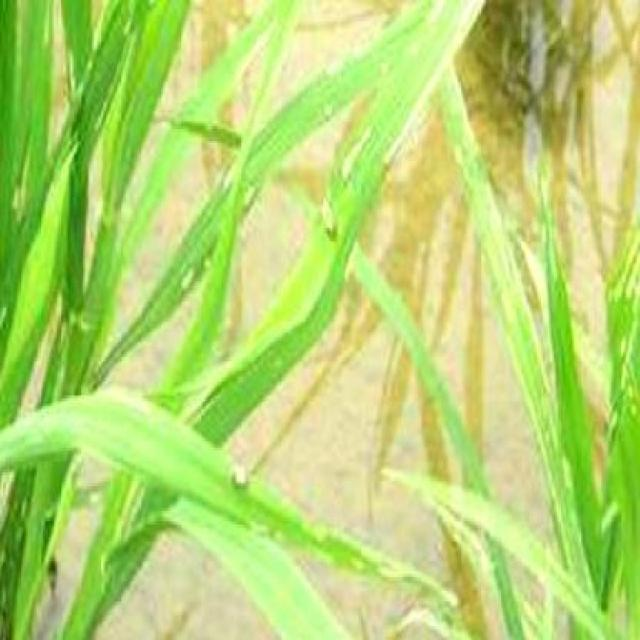rice-bug: (314, 196, 340, 242), (231, 452, 252, 490)
